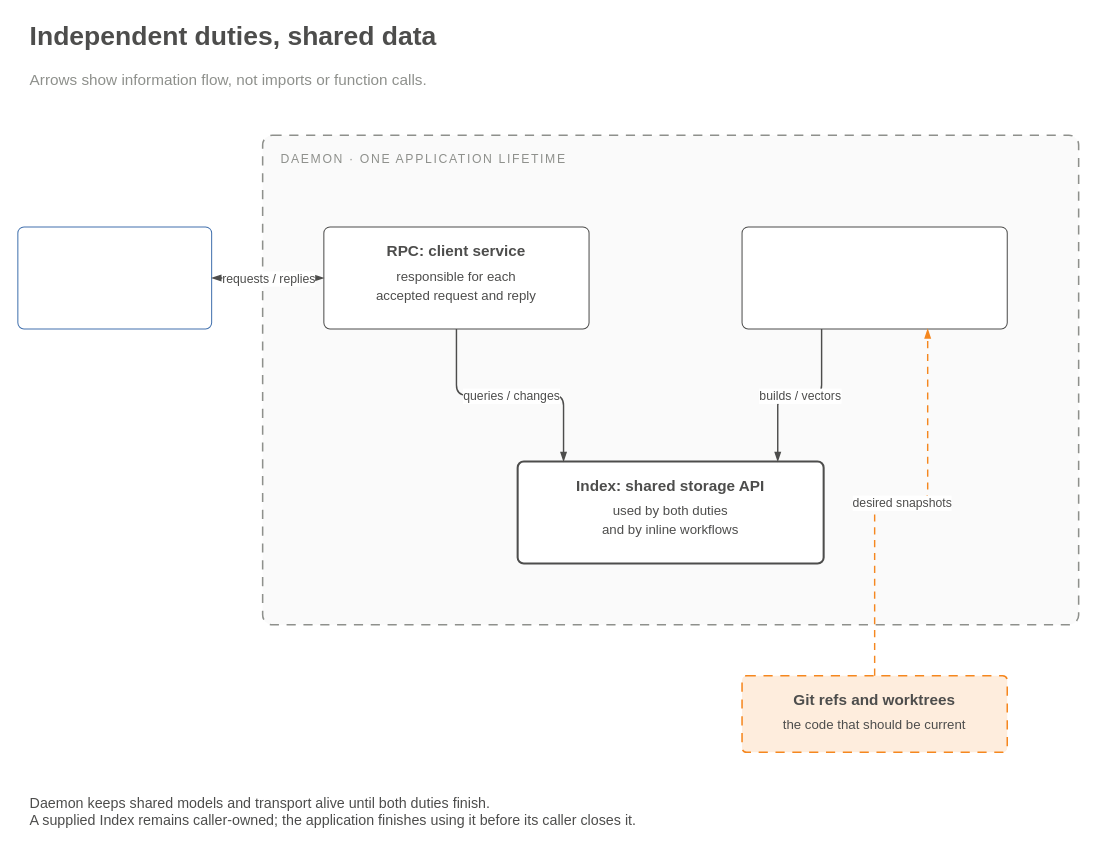
Some shapes in this 1098 by 856 pixel diagram are drawn without their labels. The shapes that lost their labels are listed below. From the top down, each one's box as (x1, y1, x2, y2) in pixels, then its label:
(17, 226, 212, 329): Clients request code information or change watch intent
(741, 226, 1007, 329): Indexer: freshness reconcile desired snapshots with stored results
